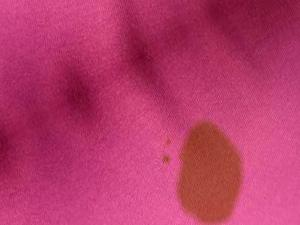stain: (176, 120, 247, 225), (160, 154, 173, 170), (162, 137, 174, 150)
